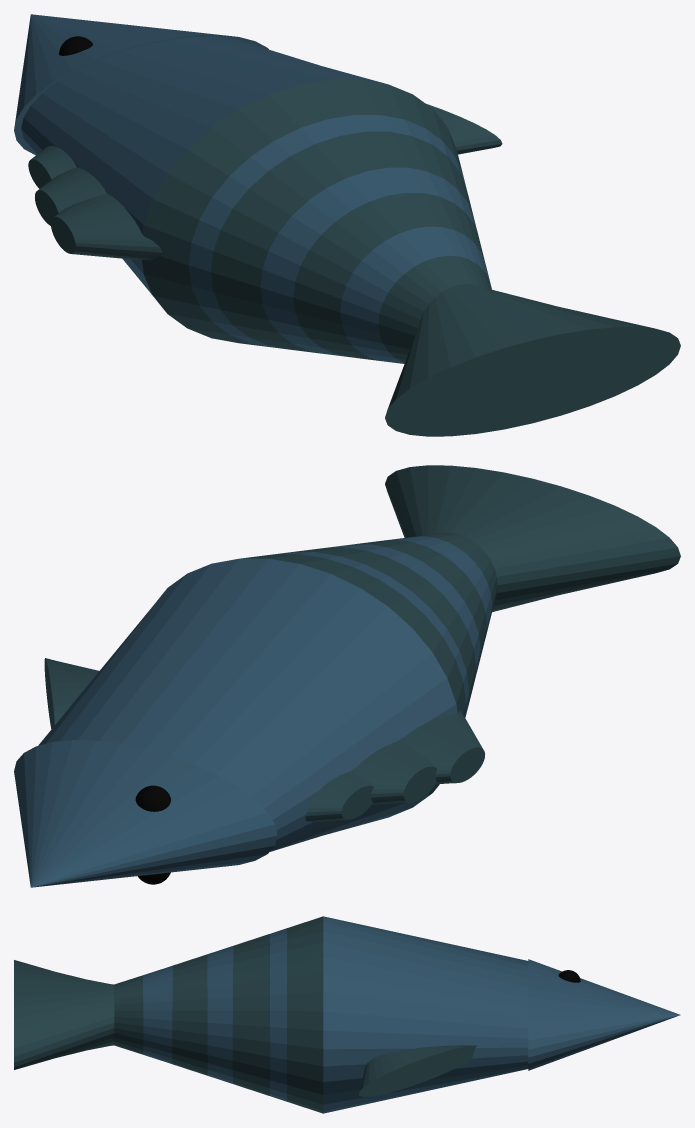
The model's file is Fish.fbx.
3 renders of one model, top to bottom at view 1: azimuth 30°, elevation 25°; view 2: azimuth 150°, elevation 25°; view 3: azimuth 270°, elevation 25°, orthographic. The views are drawn at different scales.
Parts seen in each view (by area): view 1: Cylinder; view 2: Cylinder; view 3: Cylinder.
Boxes of the visible parts, box(x1,y1,x2,y2) form: Cylinder: box(14, 14, 680, 436); Cylinder: box(14, 465, 680, 887); Cylinder: box(14, 916, 680, 1113).
Size of the model in its own units: 125 by 69.91 by 251.
